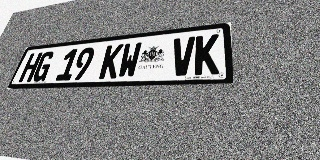1: (55, 48, 81, 81)
9: (70, 47, 96, 80)
G: (31, 51, 56, 82)
H: (18, 52, 43, 82)
K: (194, 34, 219, 75), (98, 44, 124, 79)
V: (170, 36, 195, 76)
W: (117, 42, 142, 78)
